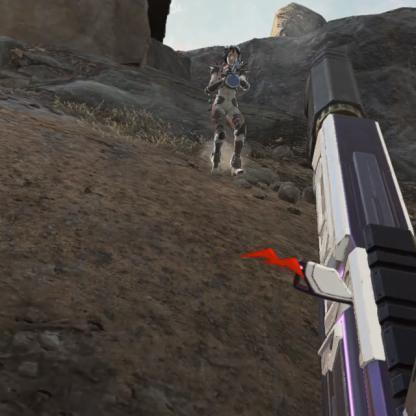avatar: (206, 44, 252, 178)
